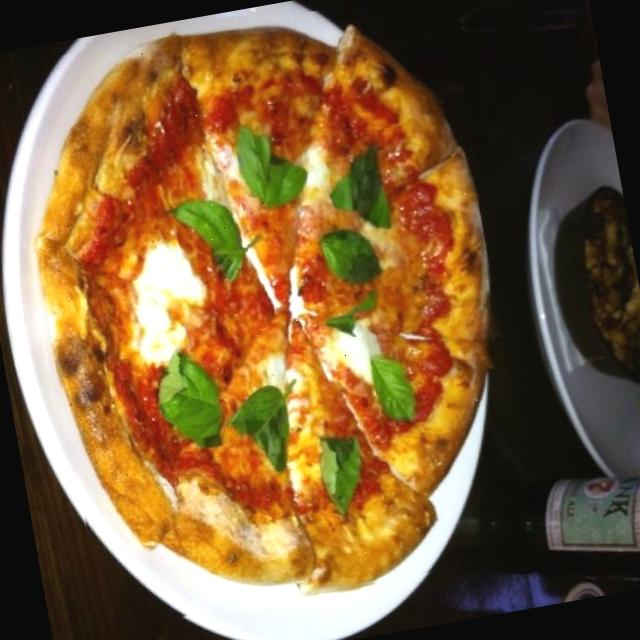basil: (169, 184, 251, 288), (228, 124, 314, 216), (225, 377, 300, 477), (153, 356, 222, 454), (312, 424, 376, 523), (325, 152, 395, 238), (315, 222, 389, 296), (368, 351, 422, 428), (316, 295, 380, 342)
pizza: (37, 30, 486, 592)
